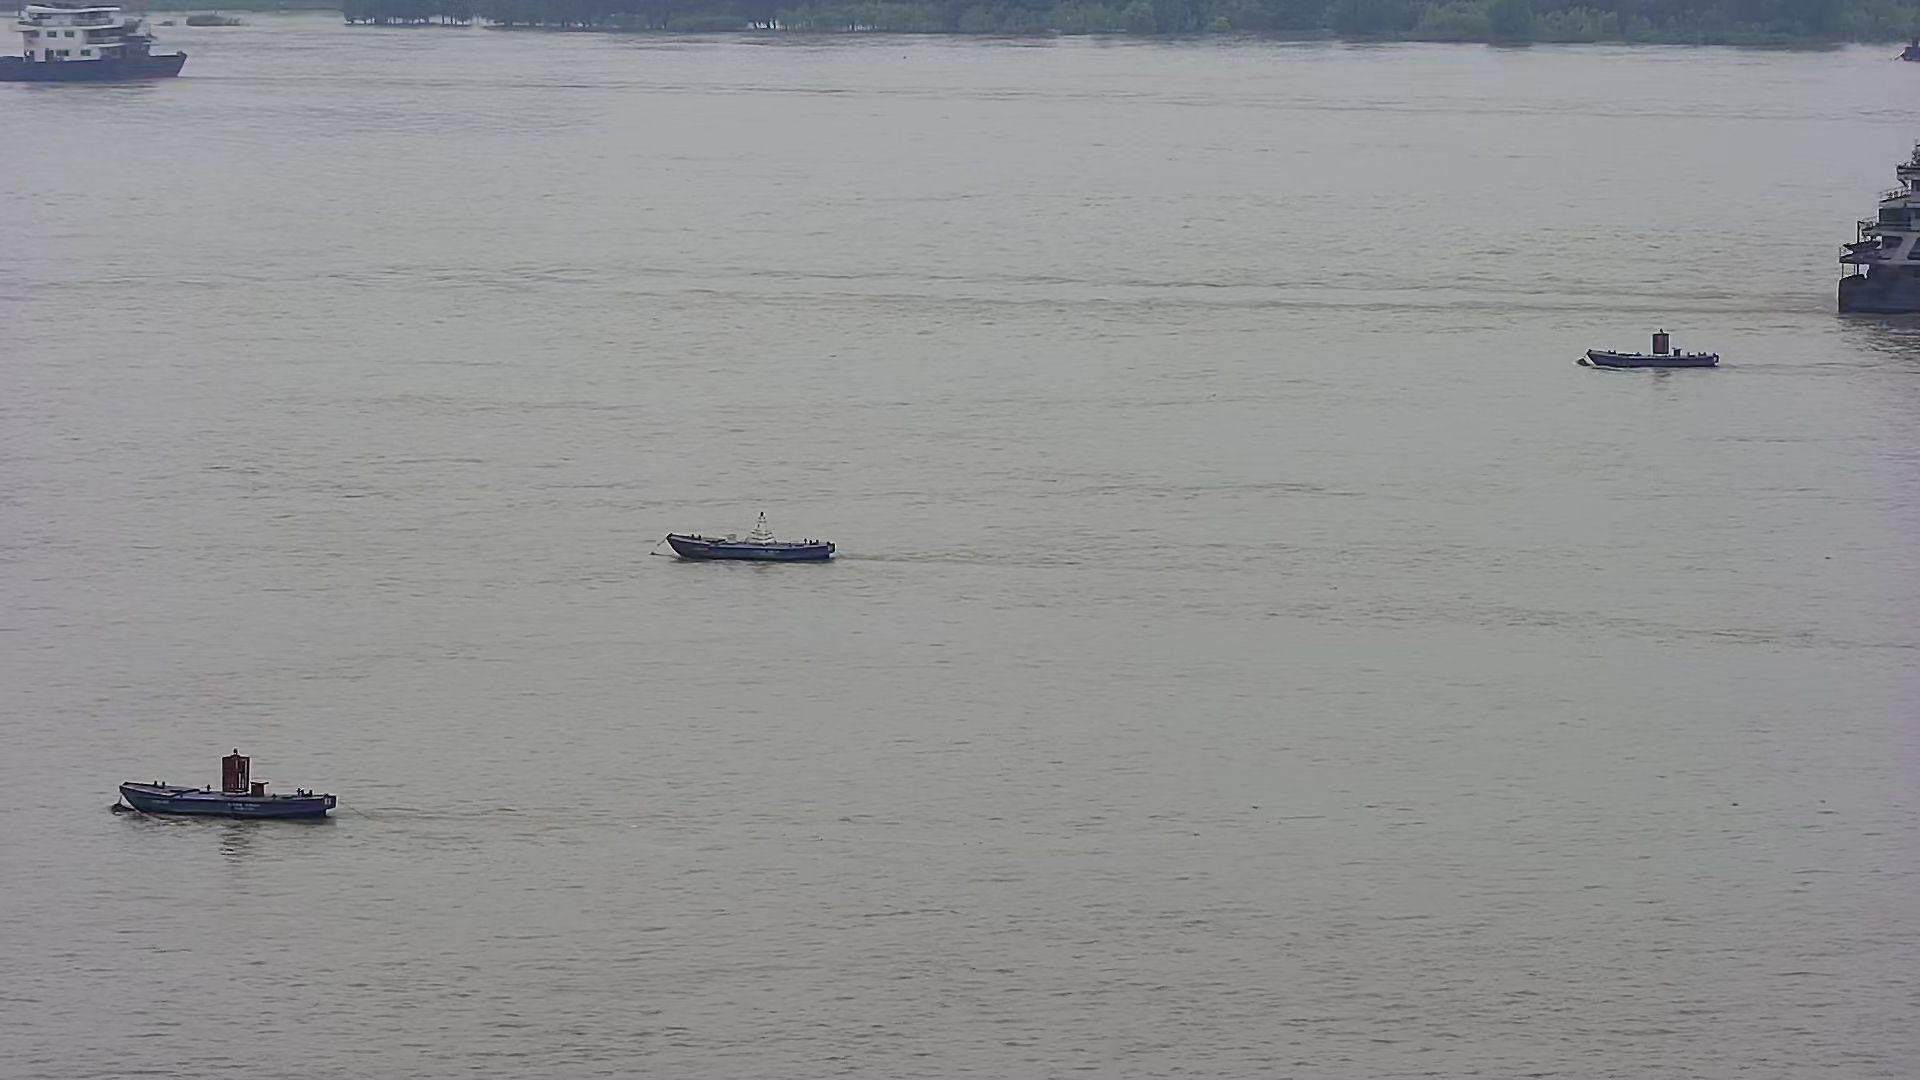boat: (117, 752, 339, 829), (665, 512, 840, 574), (1568, 320, 1730, 375)
ship: (1, 1, 222, 98)
